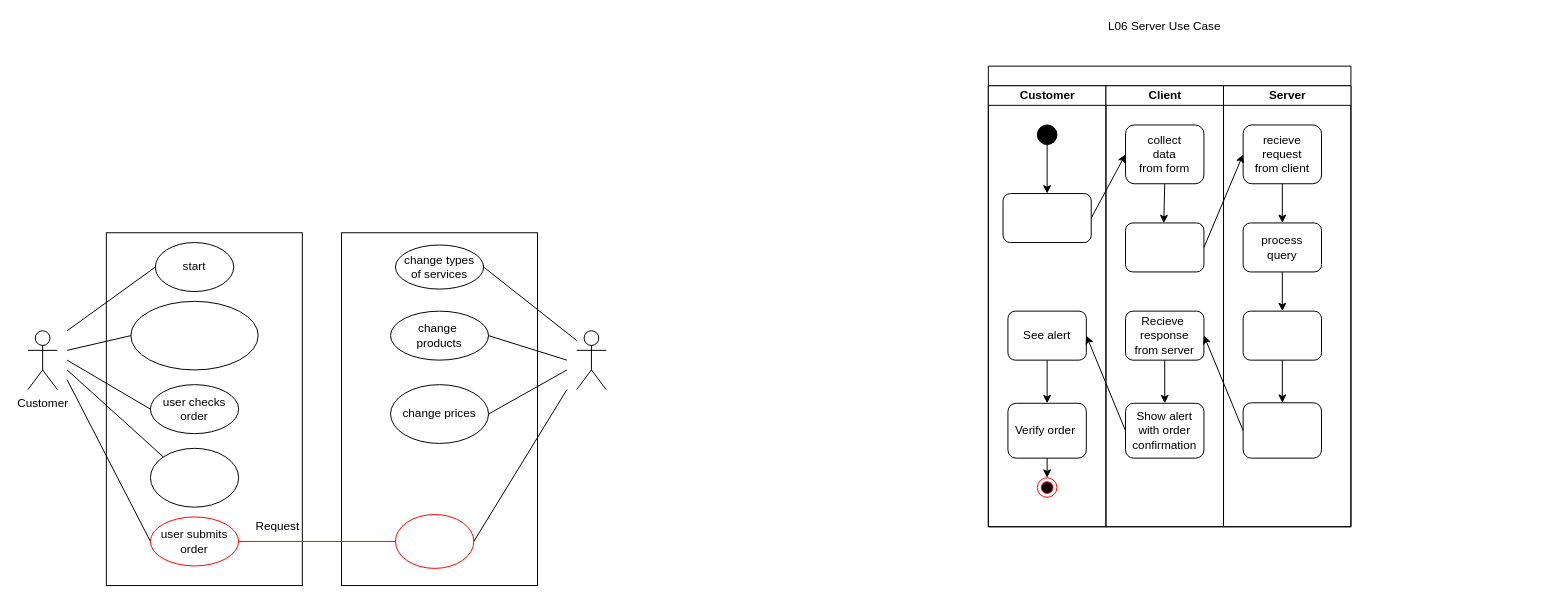
Image size: 1553x603. Some labels were removed from this diagram. The shapes that lost their labels are listed below. From the top down, each one's centre as x and y in pixels, then its label:
point 1046,218: click "order"
point 1164,247: Send request to server
point 194,335: user inserts needed information for chosen service
point 1282,335: create response
point 591,360: Provider
point 1282,430: Send response to Client
point 194,477: user enters desired delivery date
point 434,541: recieve order
